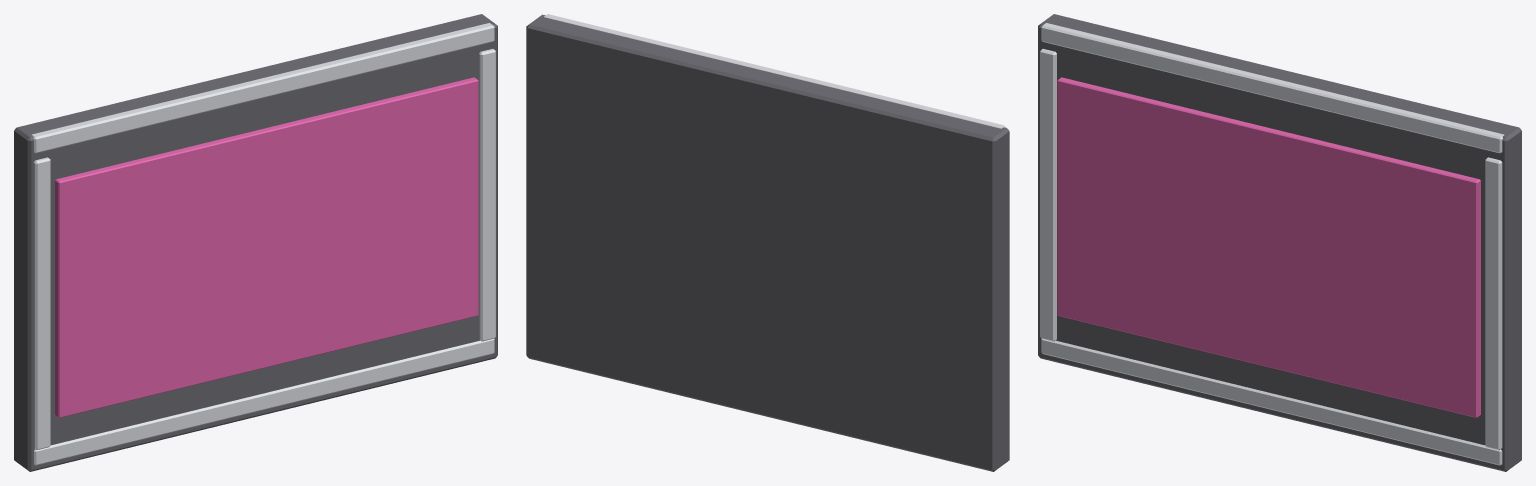
The model's file is dj-booth-facade.glb.
The picture shows the model from 3 angles, left to right: view 1: azimuth 30°, elevation 25°; view 2: azimuth 150°, elevation 25°; view 3: azimuth 330°, elevation 25°; orthographic projection.
Parts seen in each view (by area): view 1: dj-booth-facade-panel; view 2: dj-booth-facade-panel; view 3: dj-booth-facade-panel.
Part boxes in pixels (<box>): dj-booth-facade-panel: <box>14,14,497,471</box>; dj-booth-facade-panel: <box>526,14,1009,471</box>; dj-booth-facade-panel: <box>1038,14,1521,471</box>.
Bounding box in the file's own units: 1.5 × 1.02 × 0.117.
